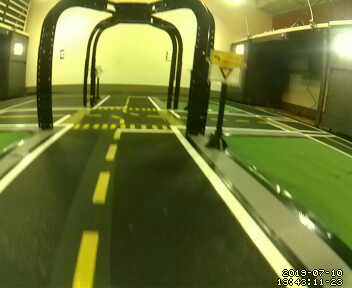Turn Yield: (209, 51, 243, 89)
